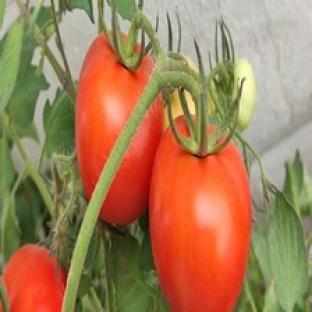Tomato: (150, 129, 252, 311), (76, 35, 154, 197), (3, 244, 66, 311), (234, 59, 256, 130), (170, 90, 183, 118)
